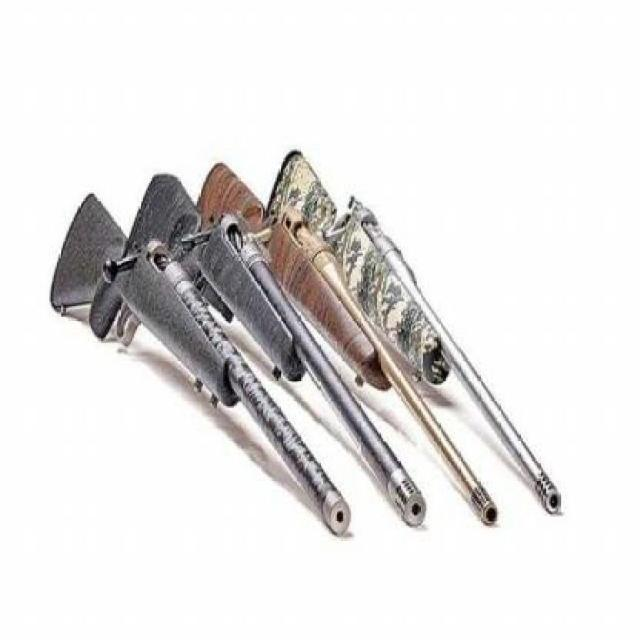weapon: (184, 165, 499, 524), (272, 152, 566, 516), (116, 178, 425, 524), (50, 196, 350, 530)
